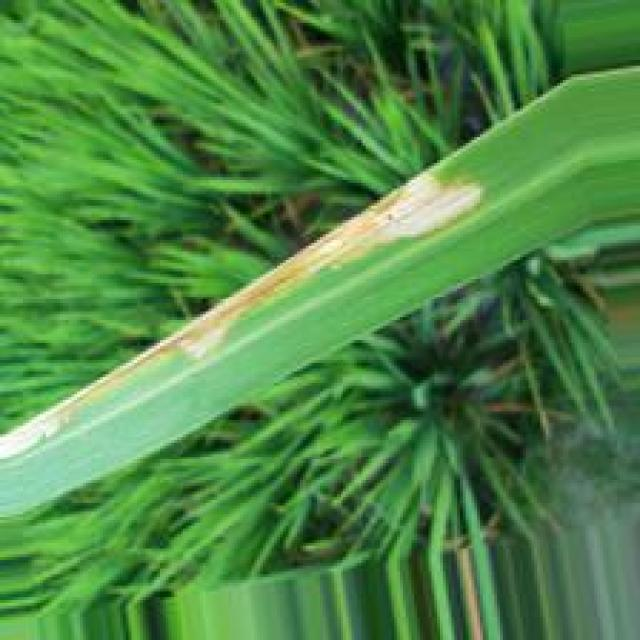Bacterial_Leaf_Blight: (4, 173, 487, 455)
